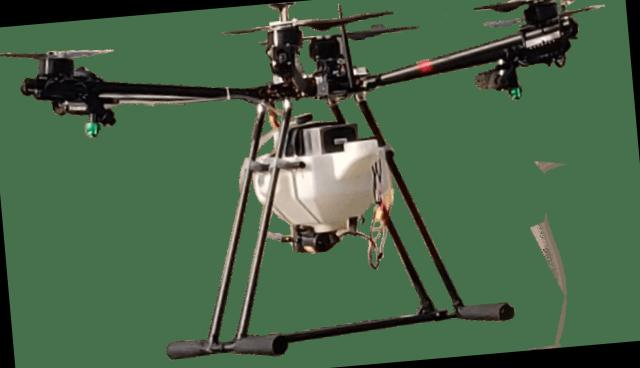drone: (0, 0, 640, 263)
